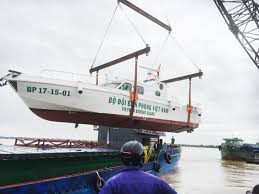tau_dansu: (1, 48, 207, 135)
